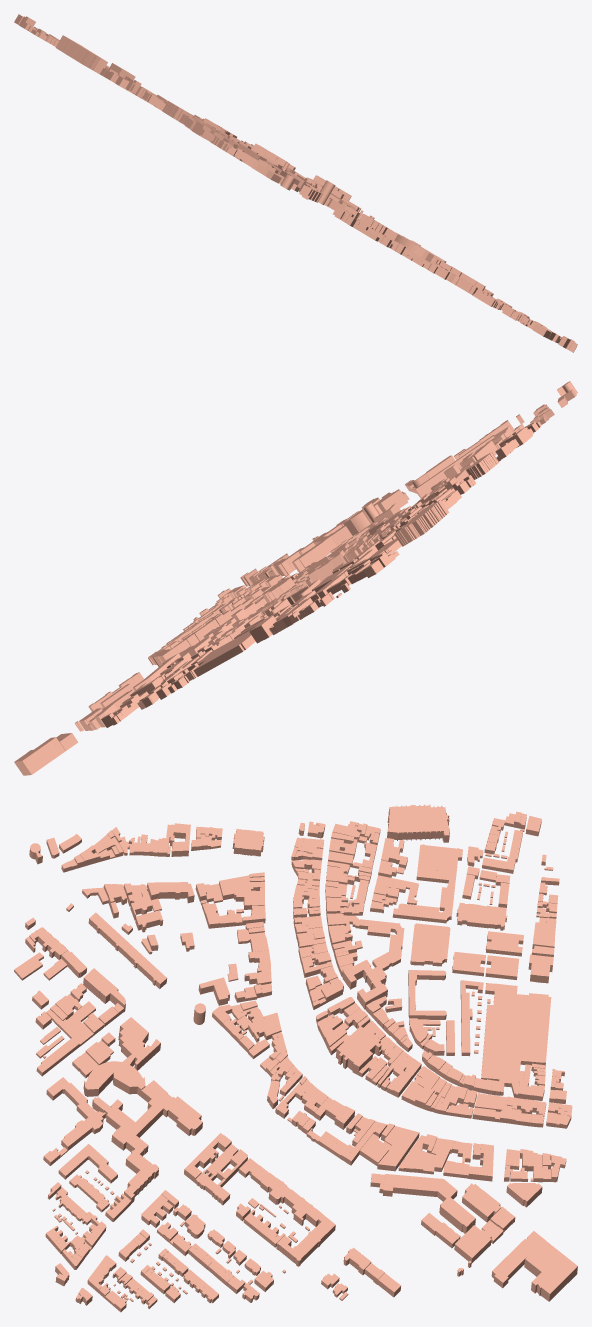
The picture shows the model from 3 angles, top to bottom: view 1: azimuth 30°, elevation 25°; view 2: azimuth 150°, elevation 25°; view 3: azimuth 270°, elevation 25°; orthographic projection. The views are drawn at different scales.
Bounding box in the file's own units: 529 × 404 × 644.
